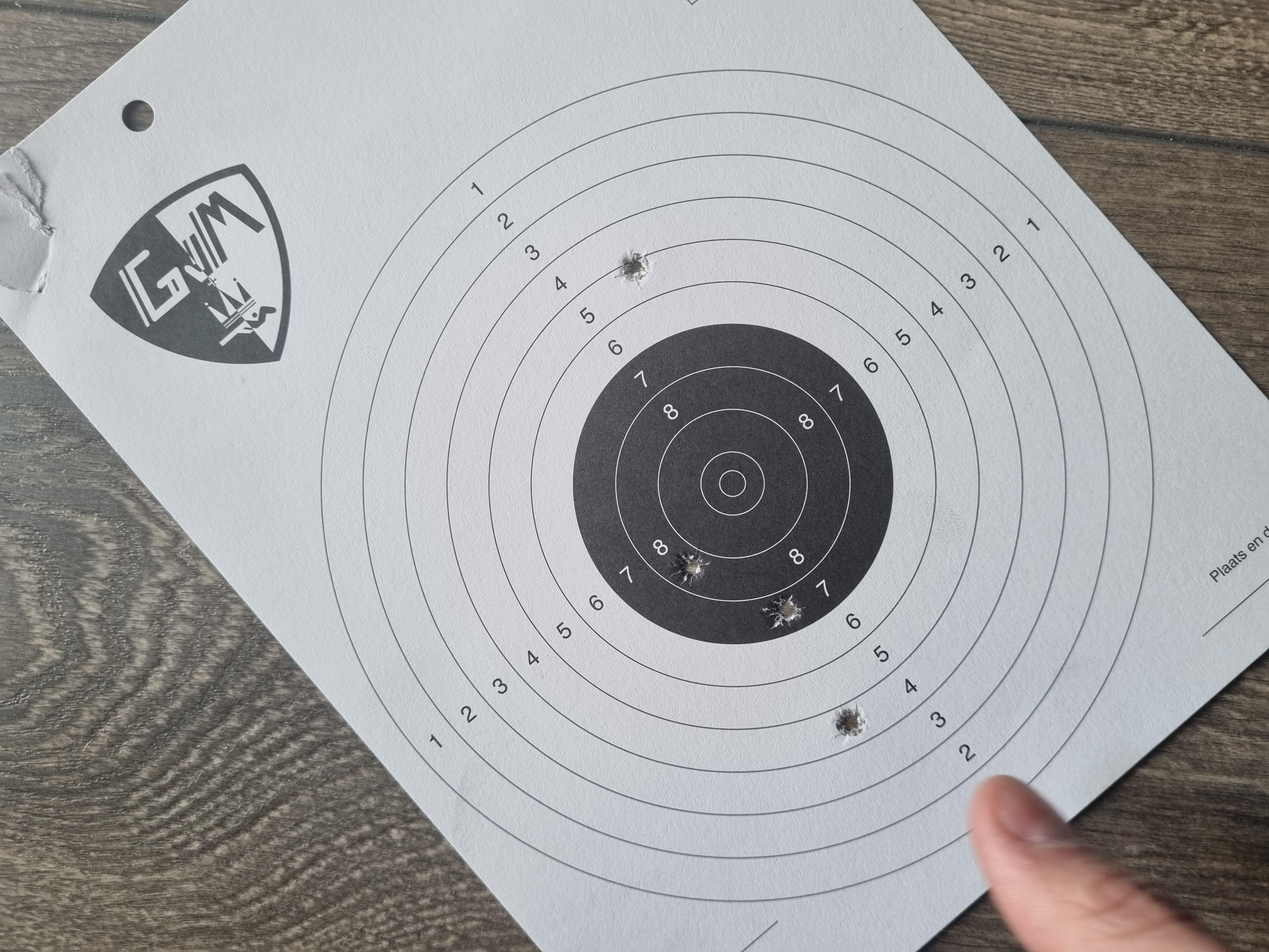hole: (278, 621, 337, 651), (886, 460, 938, 488), (436, 578, 482, 606), (492, 508, 541, 532)
